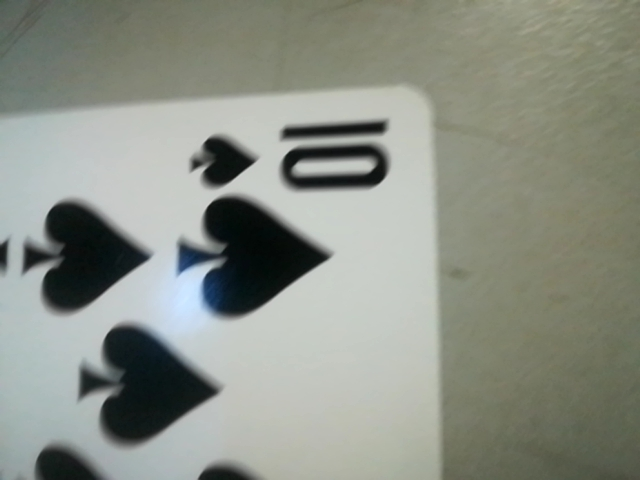ht 10: (189, 106, 403, 218)
